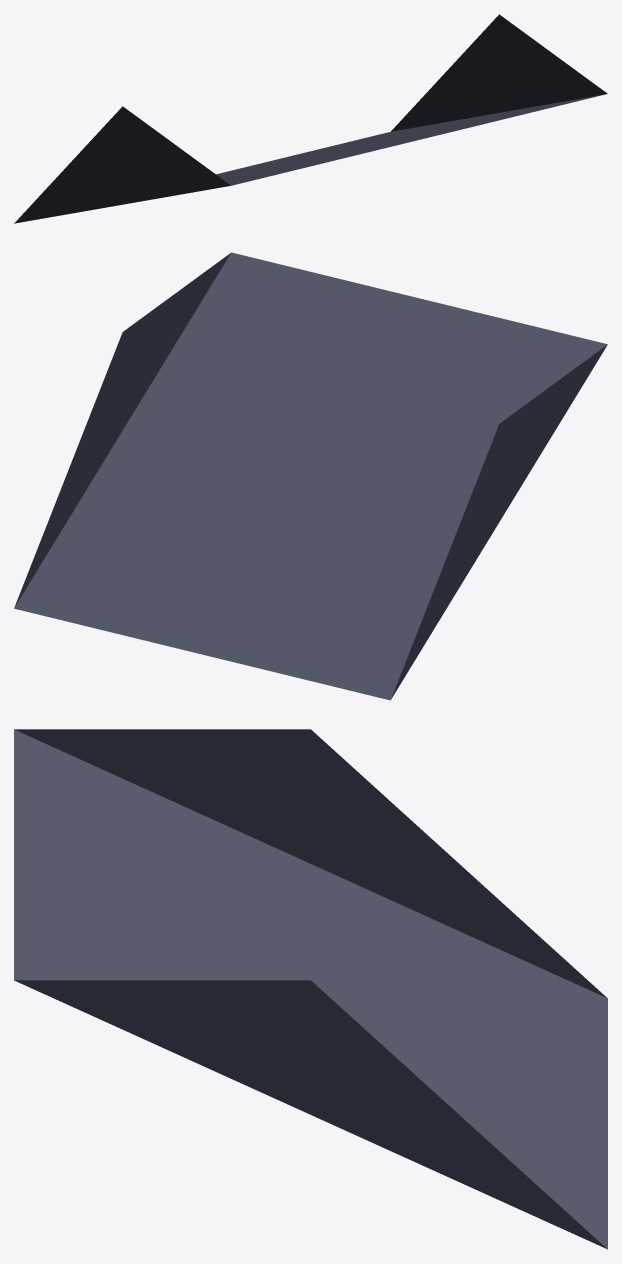
File: terrain_ramp.glb
The picture shows the model from 3 angles, top to bottom: view 1: azimuth 30°, elevation 25°; view 2: azimuth 150°, elevation 25°; view 3: azimuth 270°, elevation 25°; orthographic projection. The views are drawn at different scales.
Visible parts, largest first — view 1: terrain_ramp; view 2: terrain_ramp; view 3: terrain_ramp.
Boxes of the visible parts, x1,y1,x2,y2 form: terrain_ramp: (14,14,607,223); terrain_ramp: (14,252,607,700); terrain_ramp: (14,729,607,1249).
Size of the model in its own units: 1 by 0.5 by 1.
